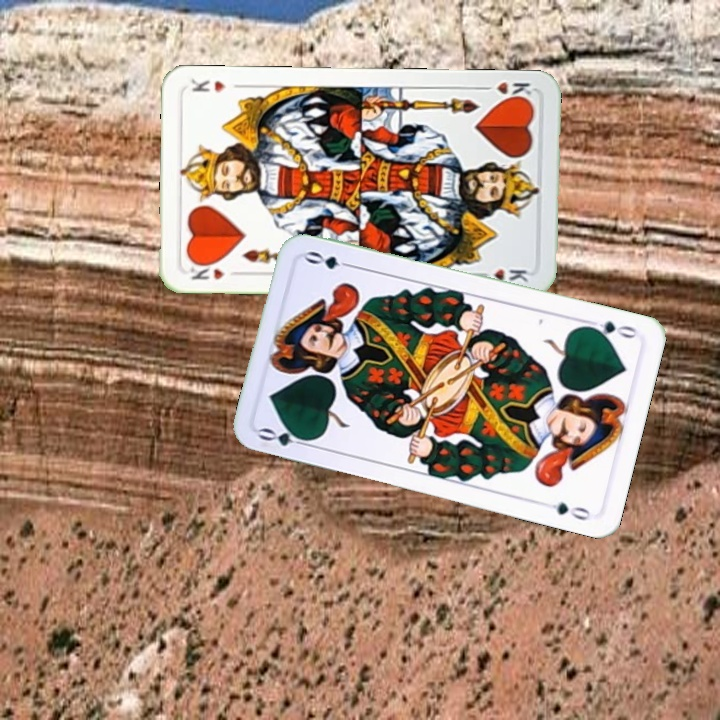GO: (255, 423, 315, 450), (581, 315, 640, 342)
HK: (476, 78, 534, 104), (186, 258, 227, 282)
